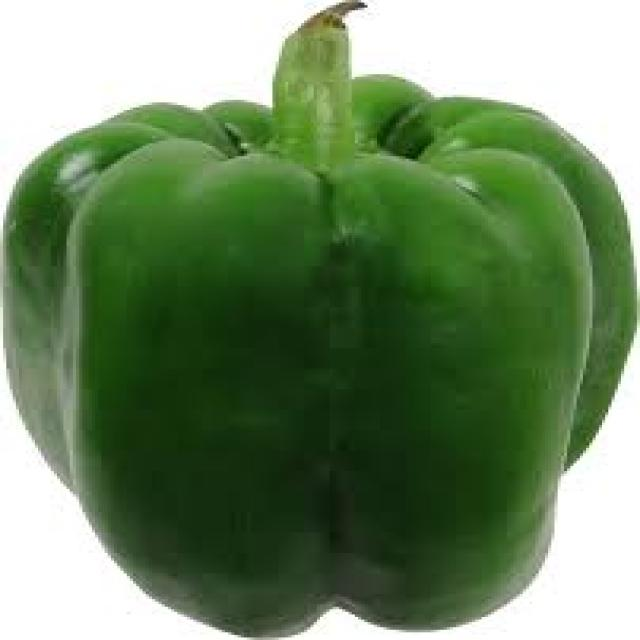Bell pepper: (3, 2, 636, 640)
